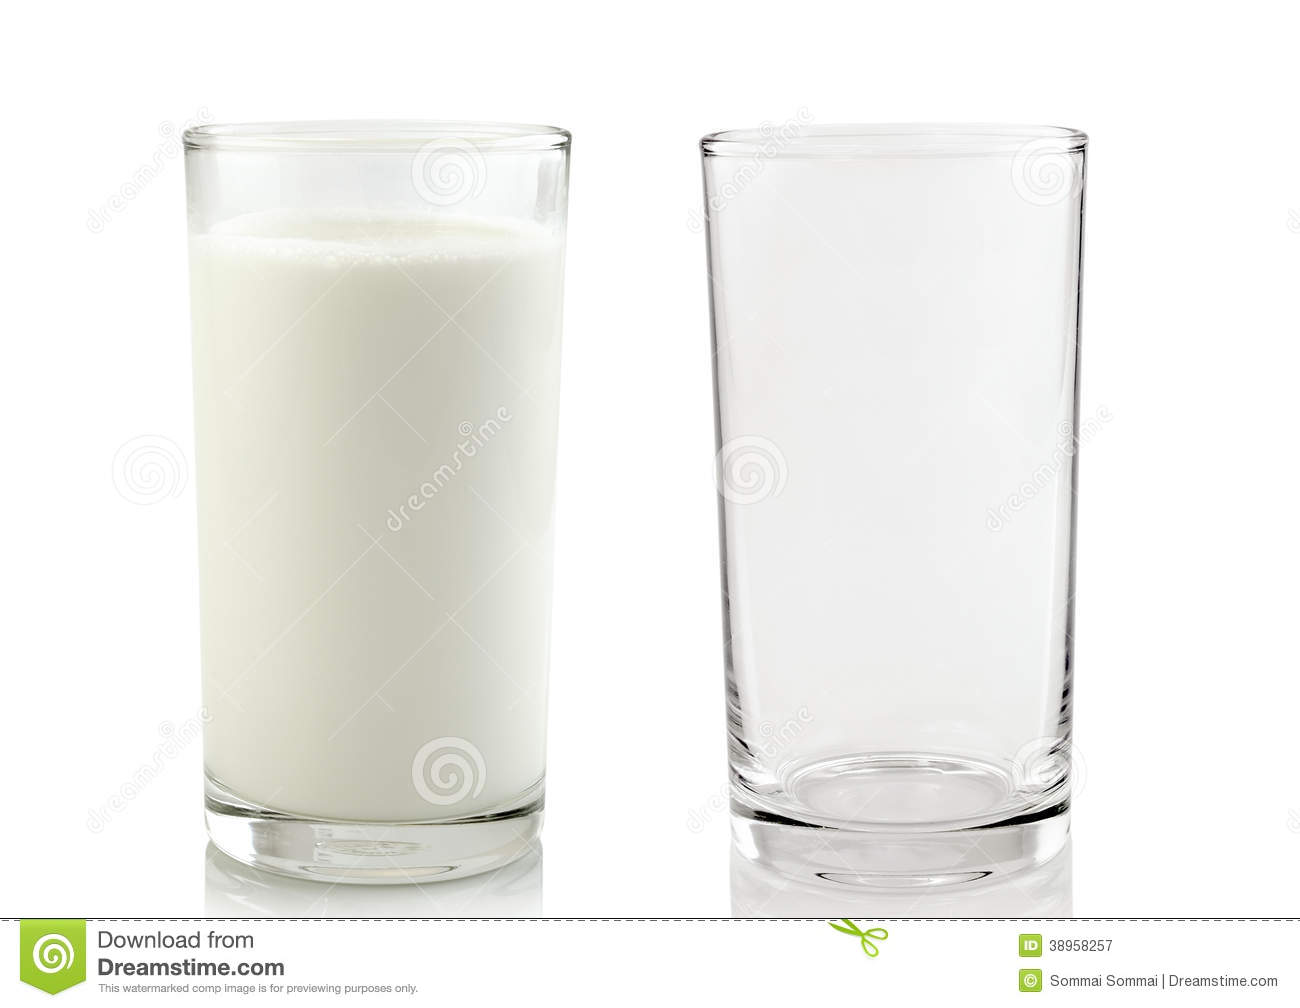glass of milk: (257, 126, 523, 860)
